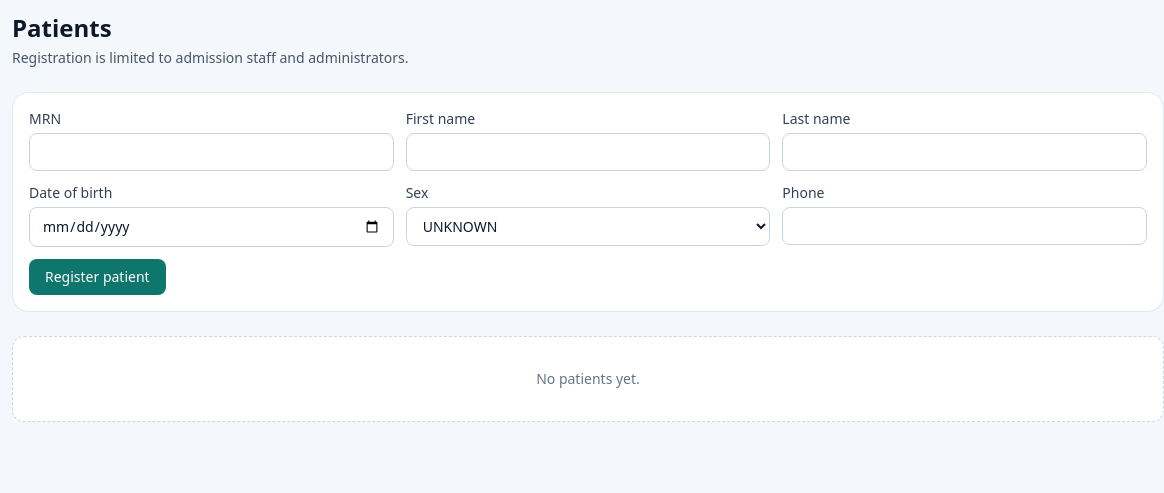
patient and audit screens › requires patient fields before registration
Click the button "Register patient" at (97, 277), box x1=29 y1=259 x2=166 y2=295
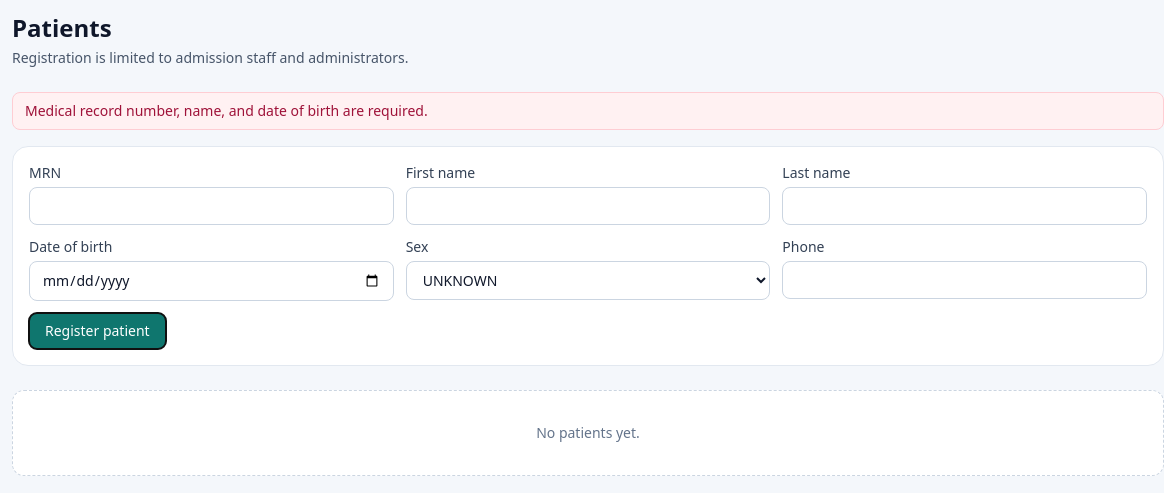
Check: the text "Medical record number, name, and date of birth are required." is shown, box x1=25 y1=101 x2=428 y2=120
Type "Alex1" into the field labelled "First name" at (588, 206), box x1=406 y1=187 x2=770 y2=225
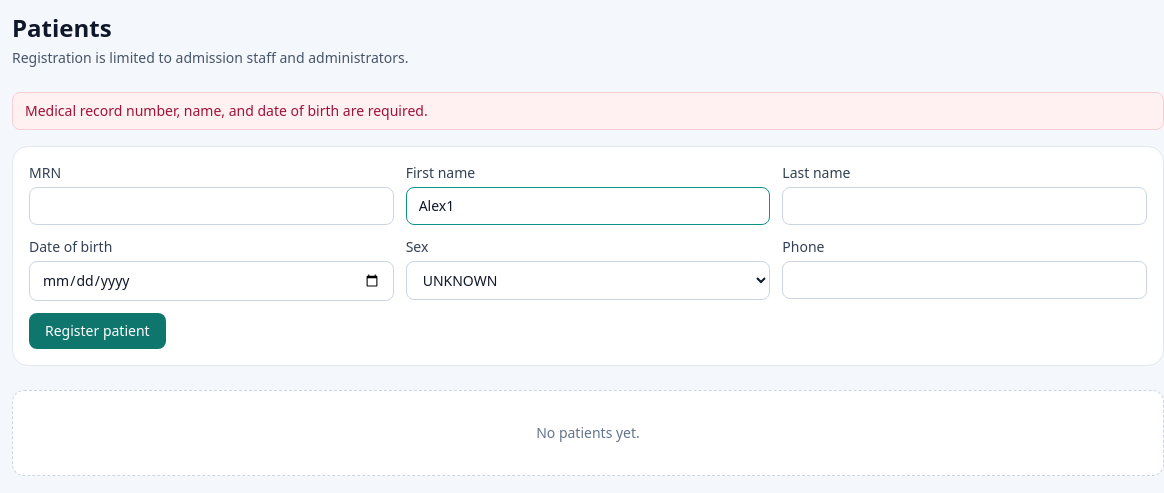
Type "Stone" into the field labelled "Last name" at (965, 206), box x1=782 y1=187 x2=1147 y2=225
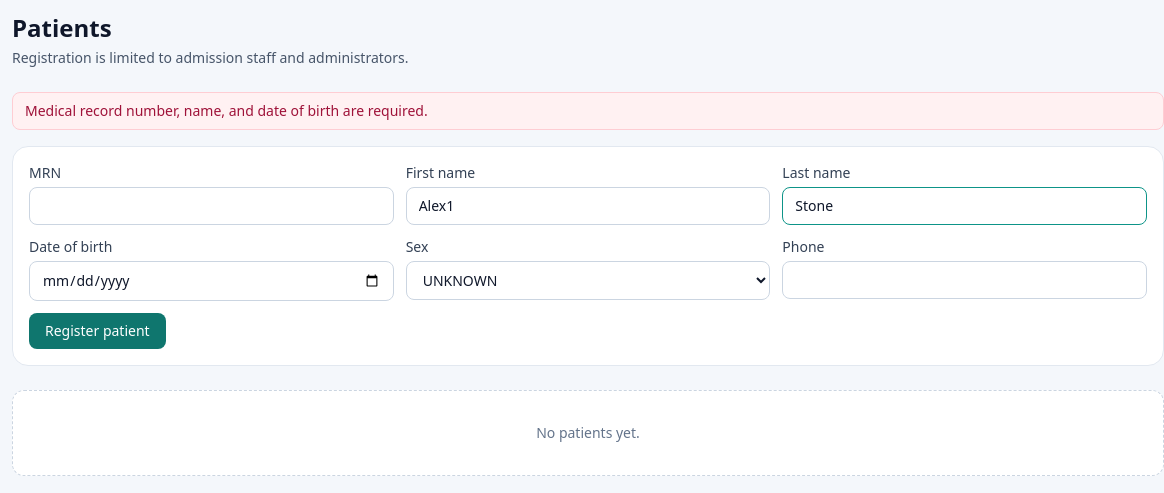
Type "MRN9001" into the field labelled "MRN" at (211, 206), box x1=29 y1=187 x2=394 y2=225
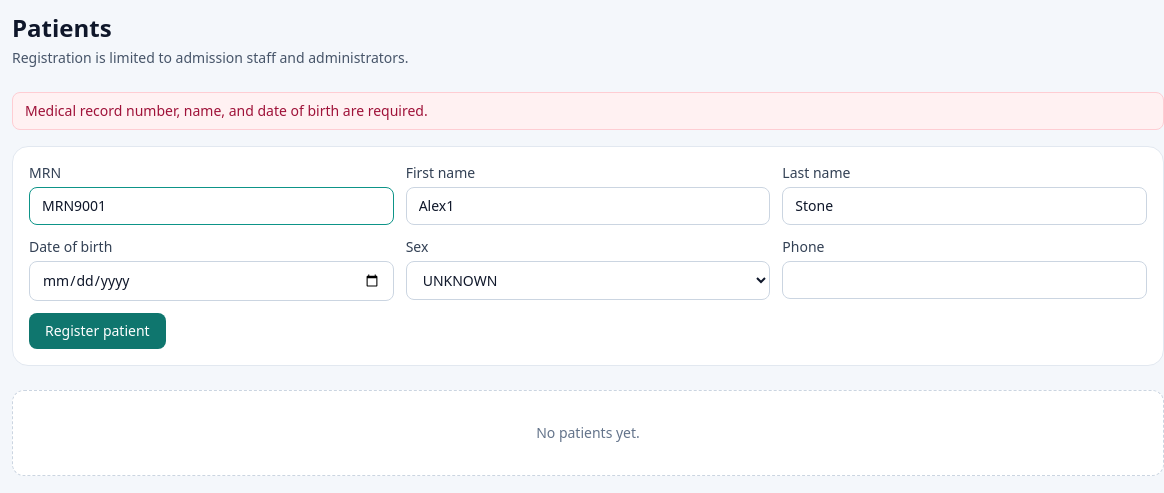
Type "1990-01-01" into the date field labelled "Date of birth" at (211, 281), box x1=29 y1=261 x2=394 y2=301
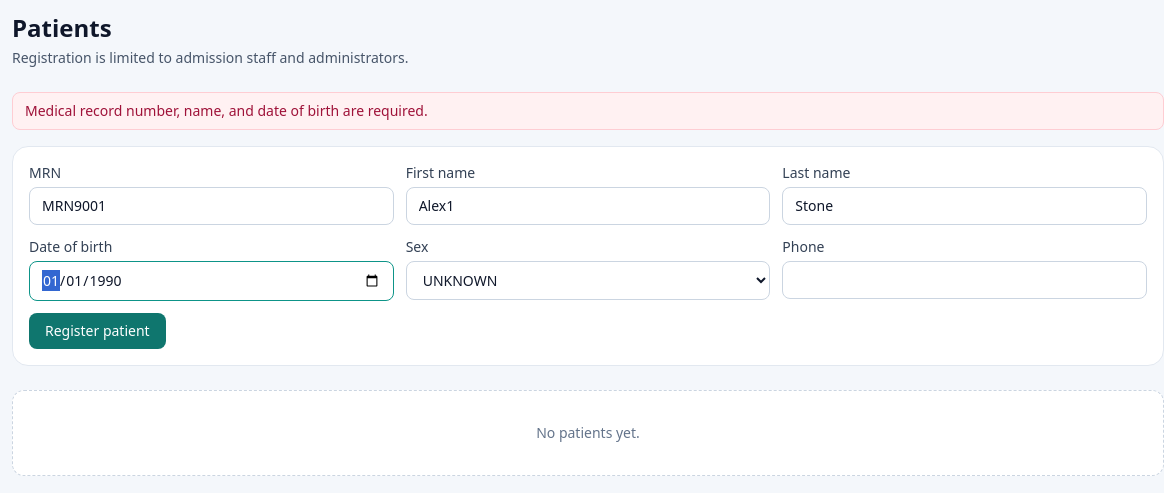
Click the button "Register patient" at (97, 331), box x1=29 y1=313 x2=166 y2=349
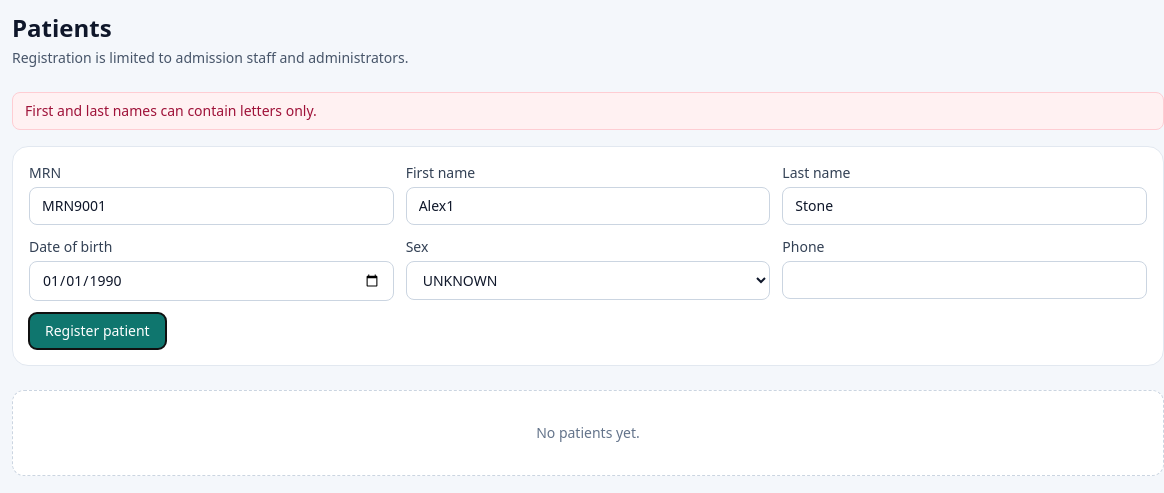
Check: the text "First and last names can contain letters only." is shown, box x1=25 y1=101 x2=317 y2=120
